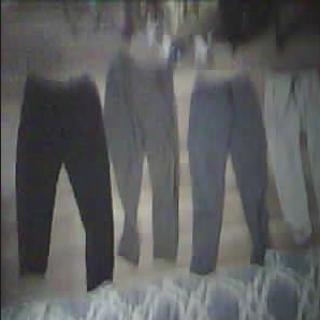Blue Sweatpants: (188, 74, 270, 273)
Gray Sweatpants: (106, 63, 184, 267)
Navy Sweatpants: (17, 68, 115, 290)
White Sweatpants: (265, 67, 320, 244)
